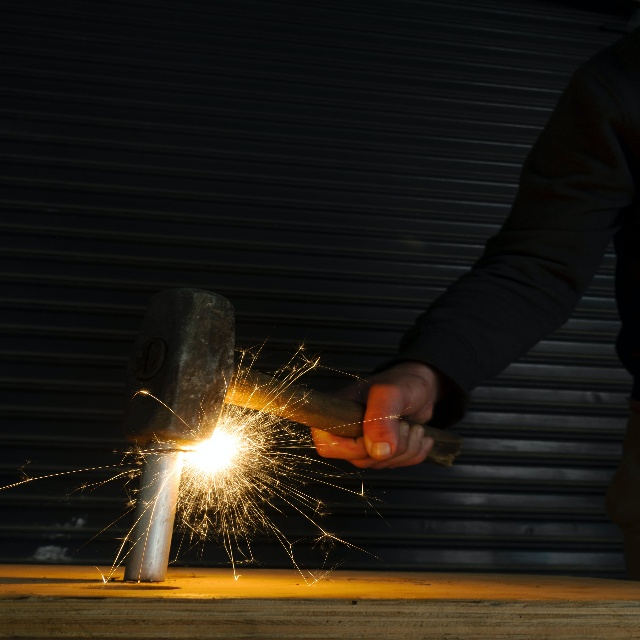Sin_guantes: (310, 361, 442, 473)
